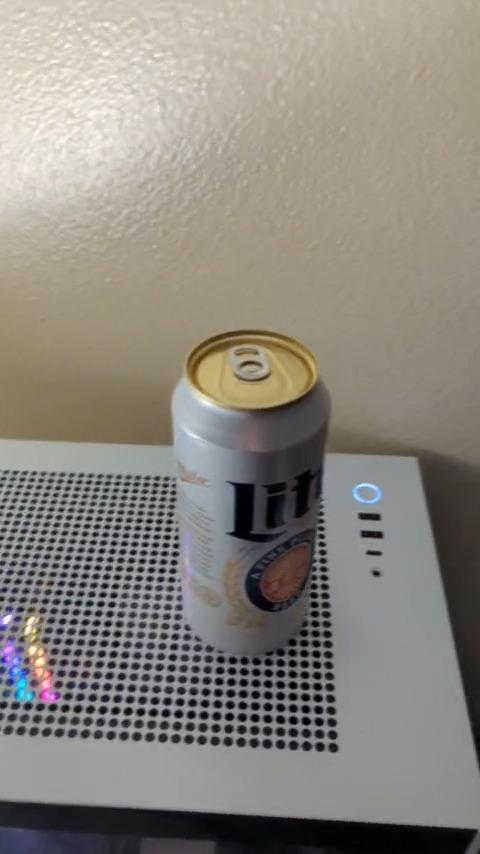metal: (173, 377, 329, 655), (200, 335, 310, 379)
